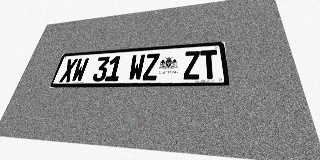1: (105, 56, 123, 81)
3: (92, 56, 110, 82)
T: (200, 49, 219, 79)
W: (128, 54, 145, 81), (70, 58, 89, 82)
X: (59, 58, 78, 82)
Z: (183, 51, 200, 80), (142, 53, 160, 80)
